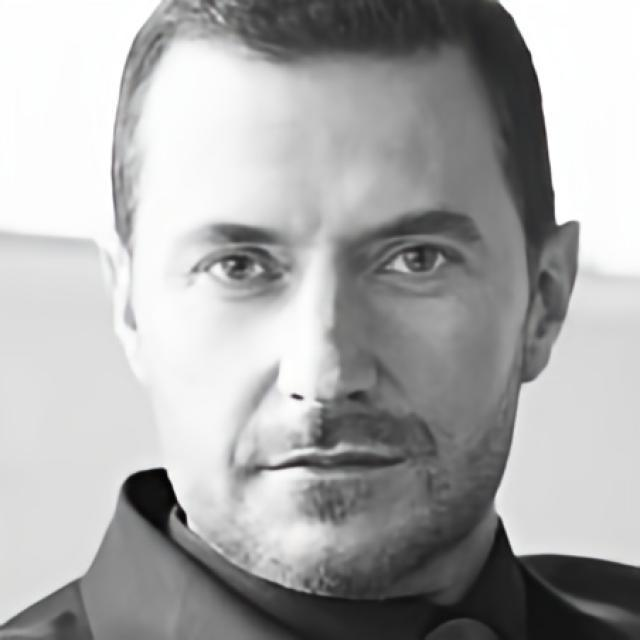neutral: (134, 35, 532, 602)
